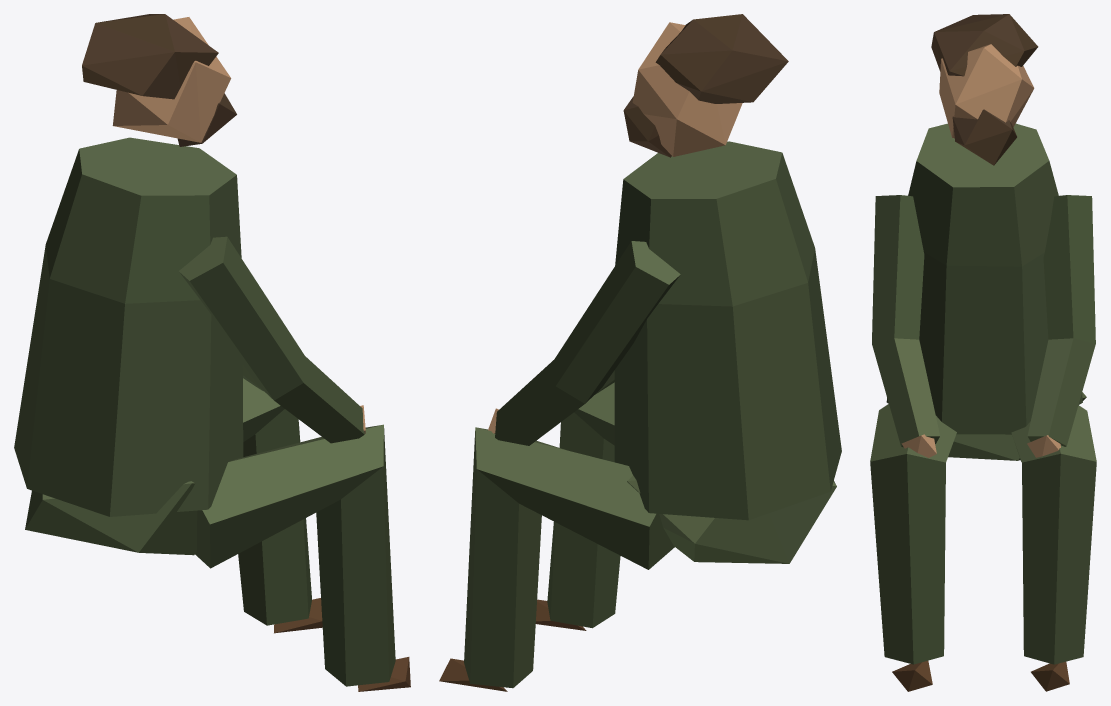
File: disciple2.glb
3 views of the same model, side by side, from view 1: azimuth 30°, elevation 25°; view 2: azimuth 150°, elevation 25°; view 3: azimuth 270°, elevation 25° (orthographic). The views are drawn at different scales.
Visible parts, largest first — view 1: base, head_m; view 2: base, head_m; view 3: base, head_m.
Part boxes in pixels (x1,y1,x2,y2): base: (14, 137, 410, 691); head_m: (82, 14, 236, 146); base: (439, 141, 841, 691); head_m: (623, 14, 788, 157); base: (870, 123, 1096, 691); head_m: (931, 14, 1038, 165).
Bounding box in the file's own units: 0.2661 × 0.5096 × 0.1808.
